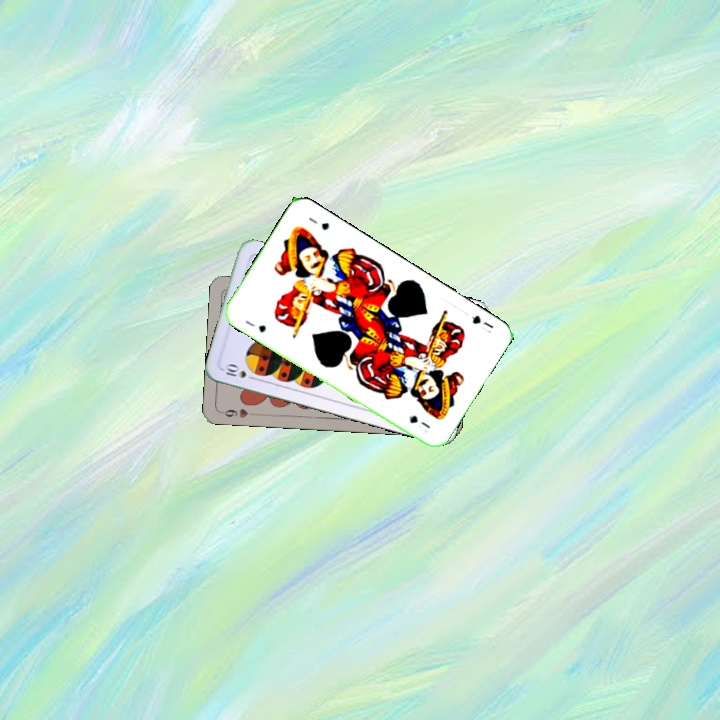GU: (468, 311, 496, 336), (241, 316, 268, 335)
H9: (217, 404, 258, 420)
S10: (222, 360, 259, 383)
